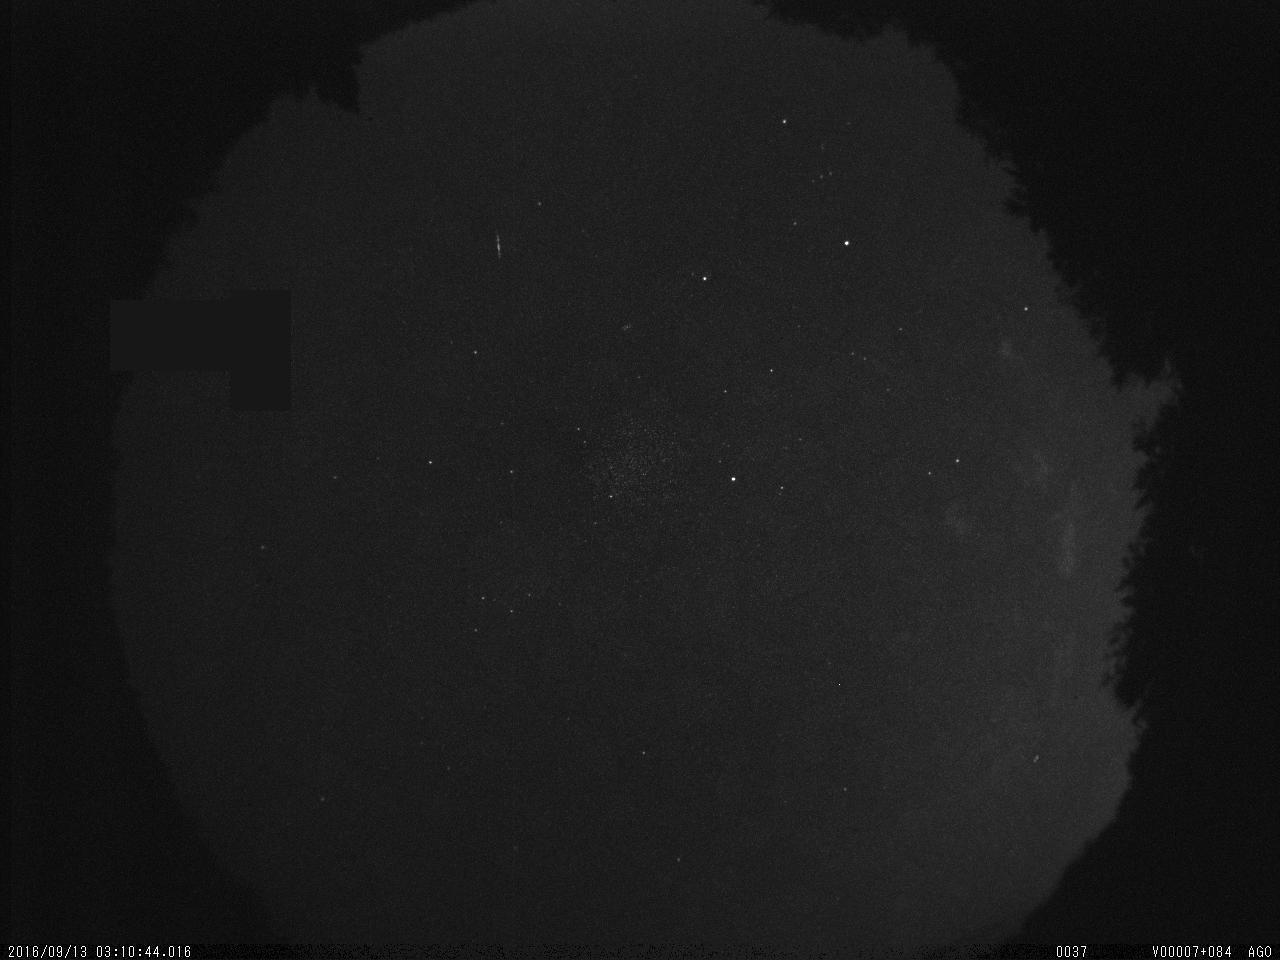meteor: (485, 211, 518, 267)
